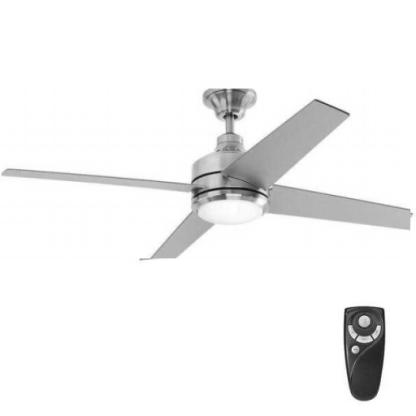ceiling-fan: (1, 89, 411, 259)
